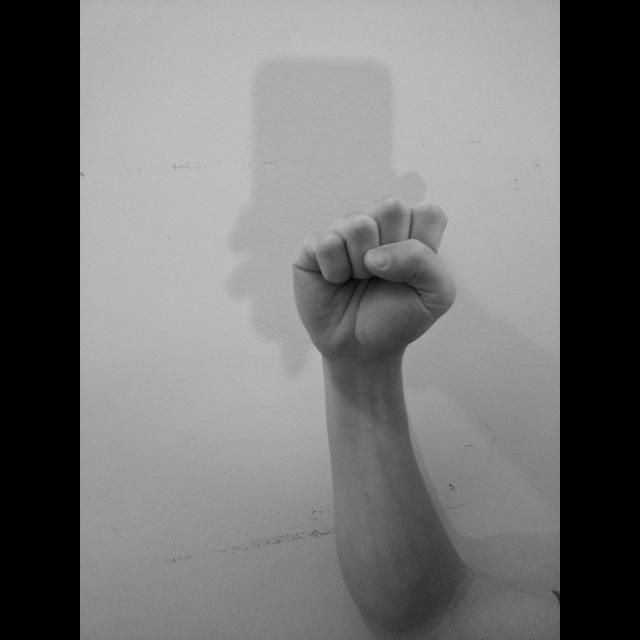S: (287, 194, 461, 366)
